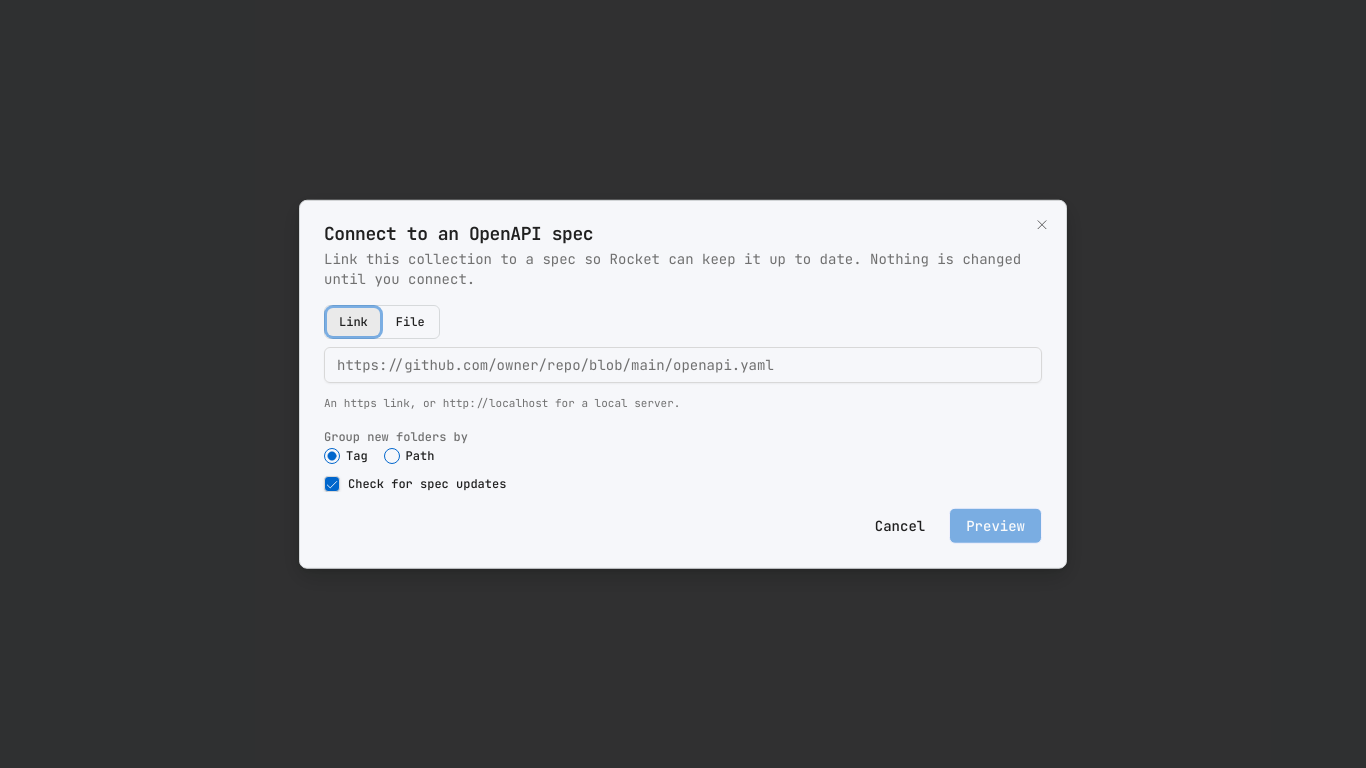
Scenario: ConnectOpenApiDialog › continue_is_blocked_until_ambiguous_rows_are_picked
Step 1. Type "https://example.com/openapi.json" into the field named "Spec link" → (683, 365), box [324,347,1042,383]
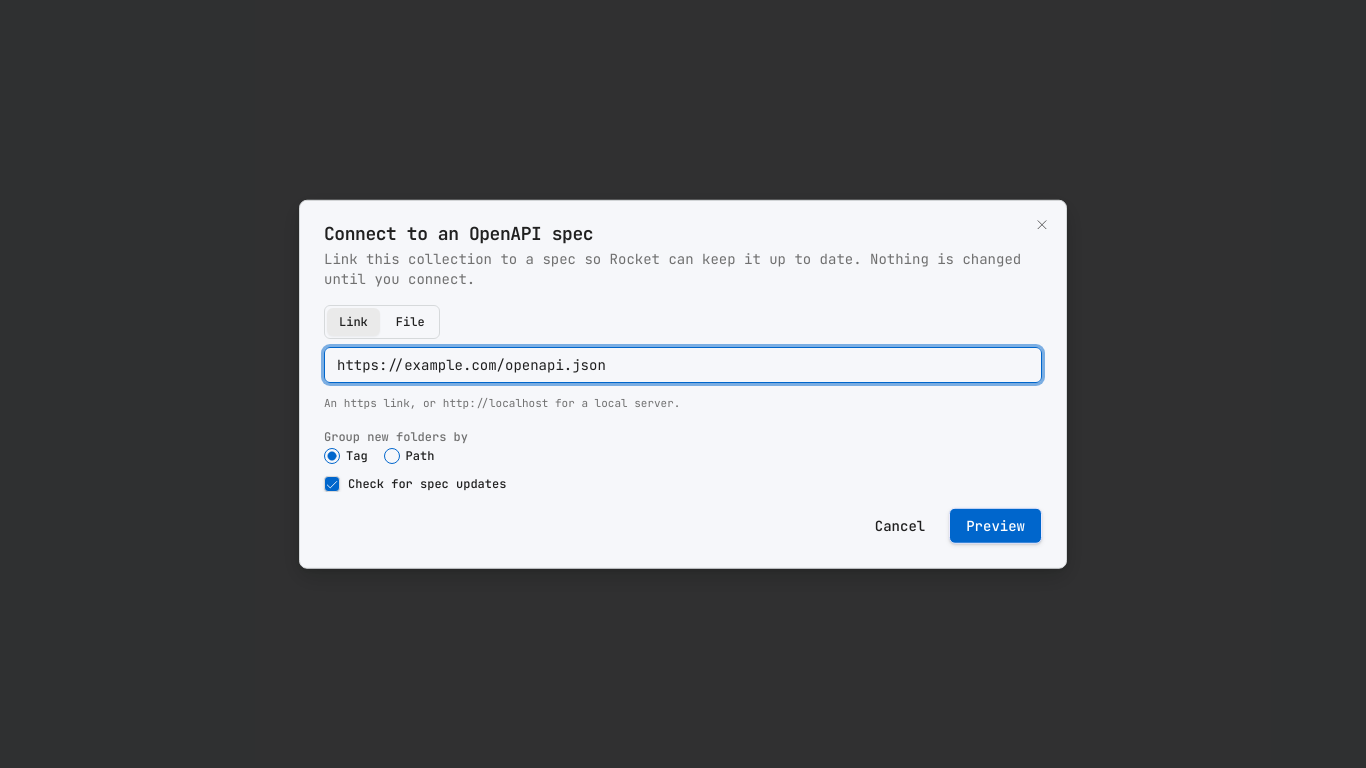
Step 2. Click the button "Preview" → (996, 525), box [949,507,1042,543]
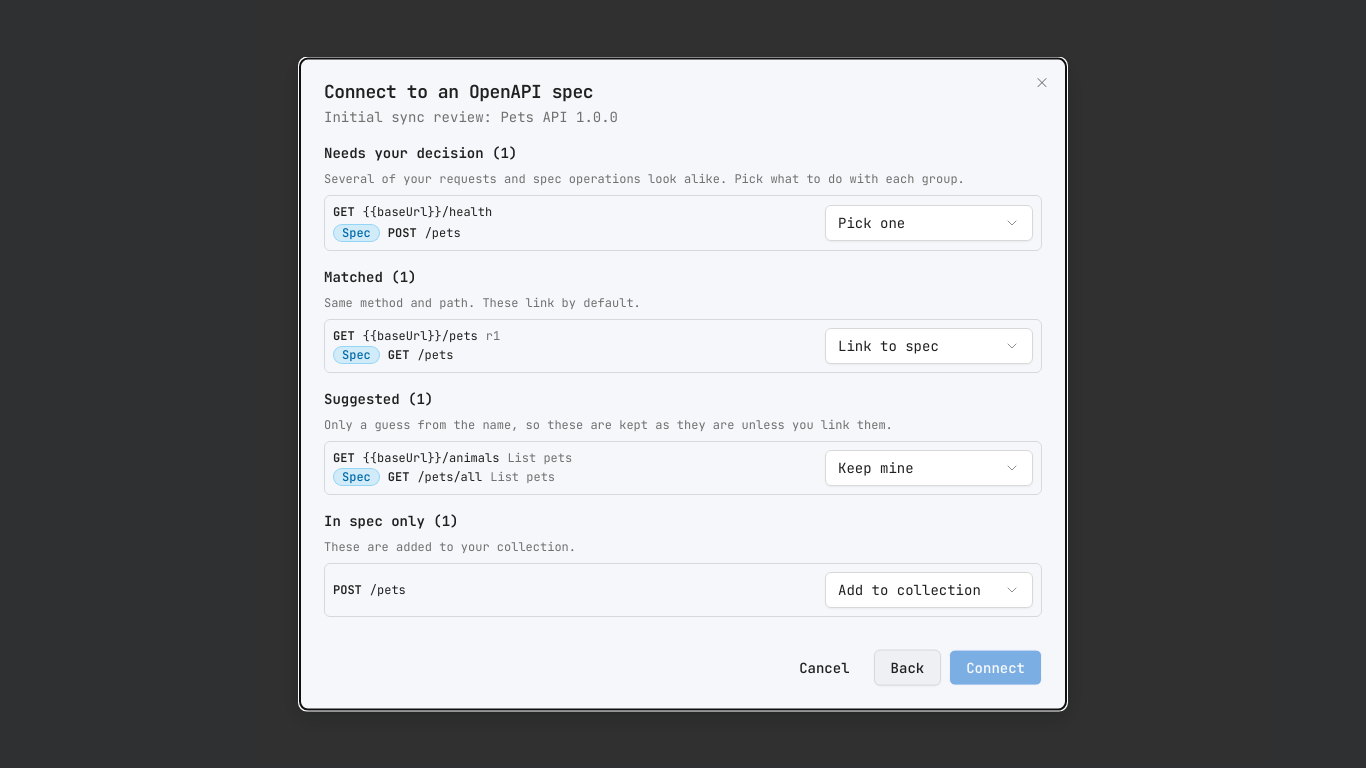
expect the button "Connect" is disabled: met, box [949,649,1042,685]
Step 3. Click the dropdown named "Choice for tangled group 1" → (929, 223), box [825,205,1033,241]
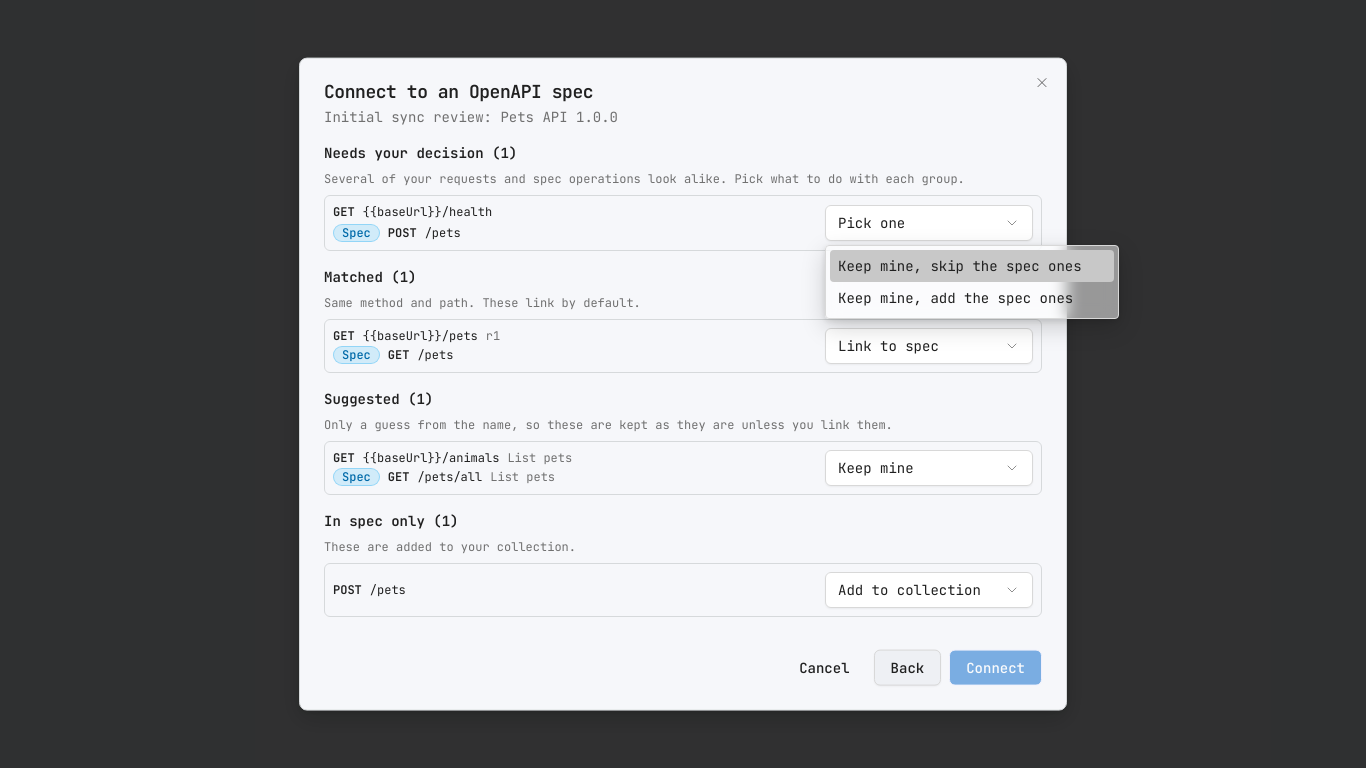
Step 4. Click the option "Keep mine, skip the spec ones" → (972, 266), box [830,250,1114,282]
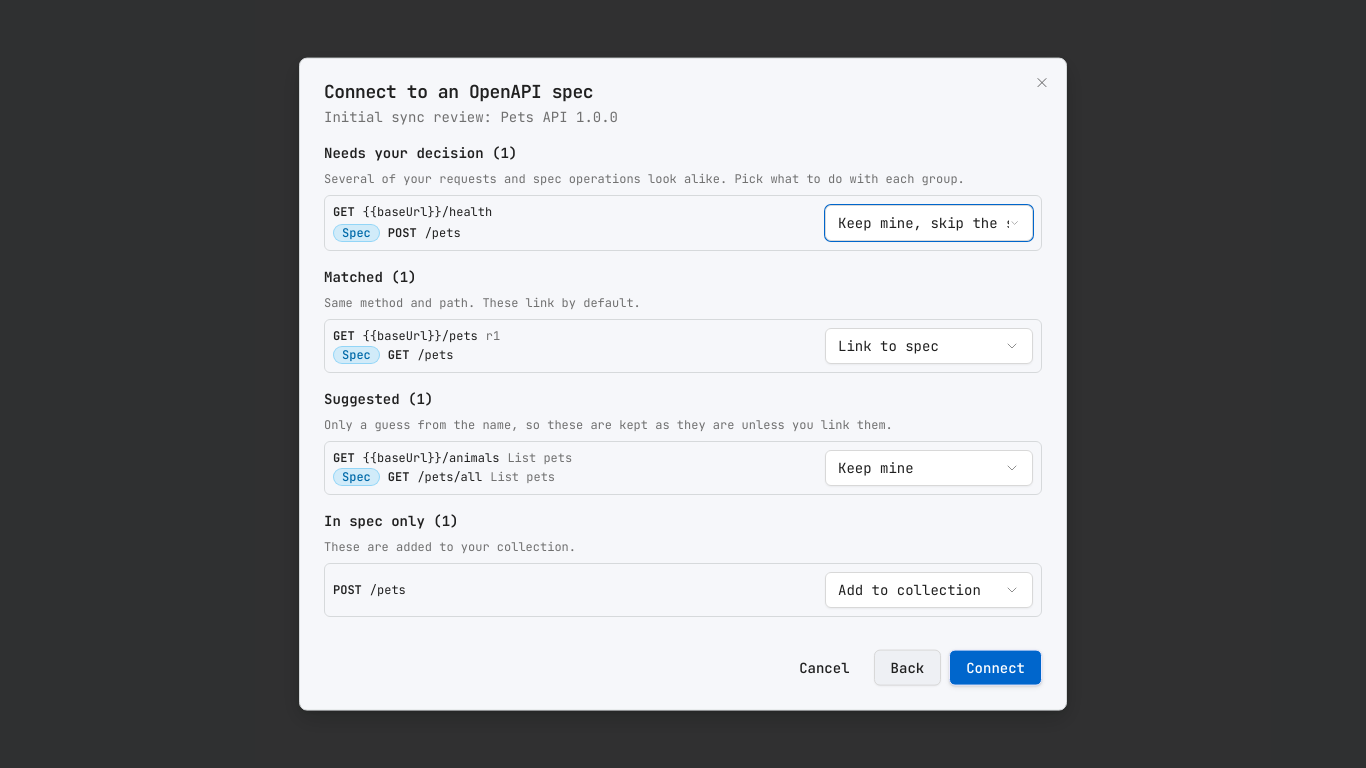
expect the button "Connect" is enabled: met, box [949,649,1042,685]
